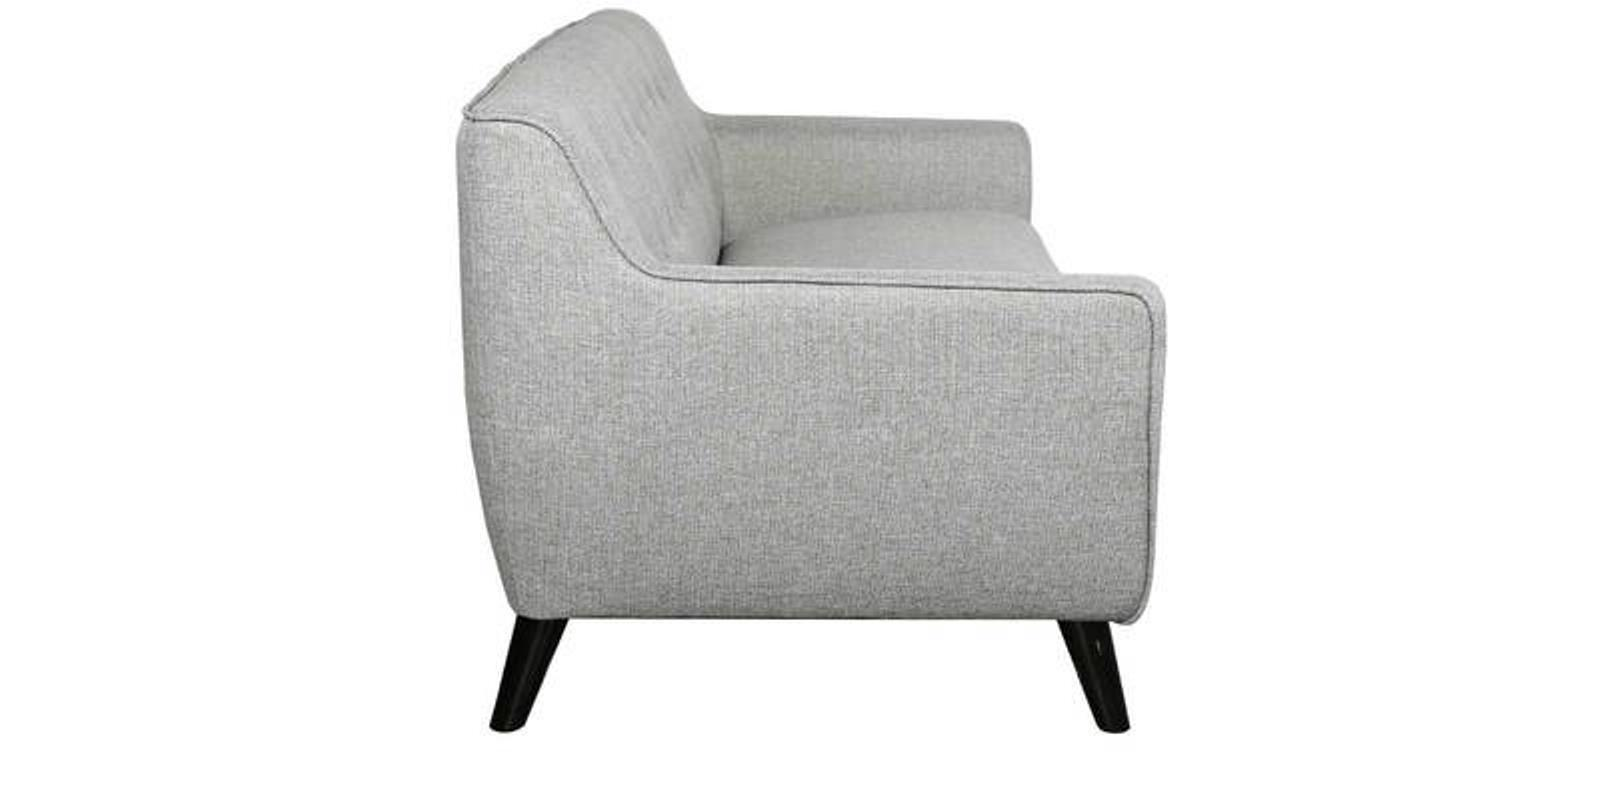Bogota Three Seater Sofa in Grey Colour by CasaCraft: (445, 15, 1197, 767)
